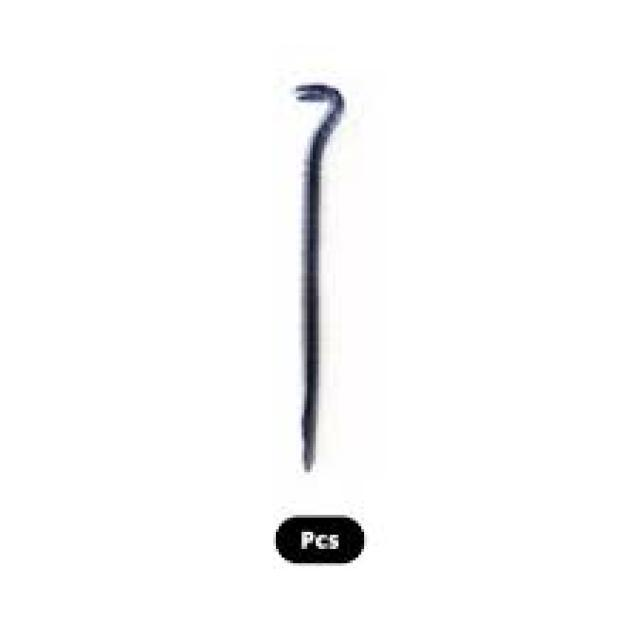Linggis: (281, 64, 353, 482)
